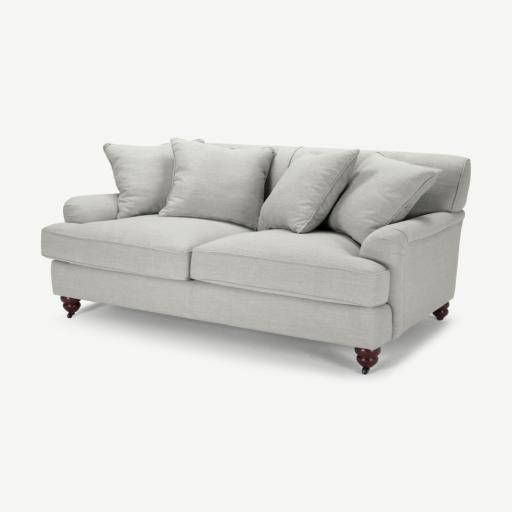back_cushion: (104, 139, 447, 245)
base: (52, 261, 391, 349)
left_arm: (359, 211, 463, 339)
legs: (355, 347, 380, 374), (61, 297, 79, 318), (297, 332, 308, 338), (438, 310, 443, 319)
right_arm: (63, 194, 118, 223)
seat_cushion: (43, 215, 389, 306)
two-seater: (0, 0, 511, 512)
